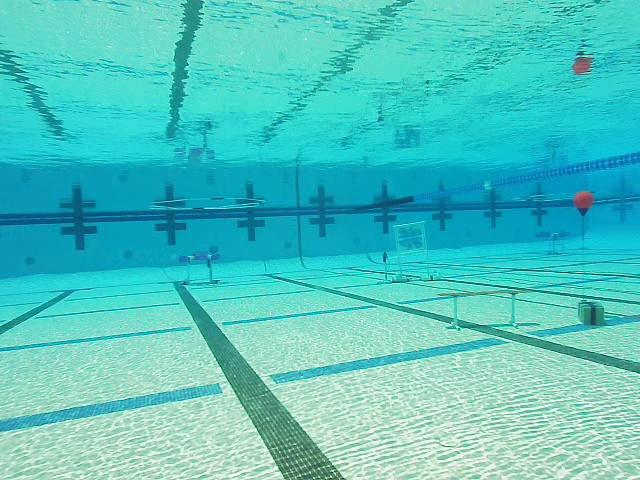buoy: (574, 190, 596, 219)
table: (179, 250, 221, 288)
torpedo: (395, 221, 426, 254)
